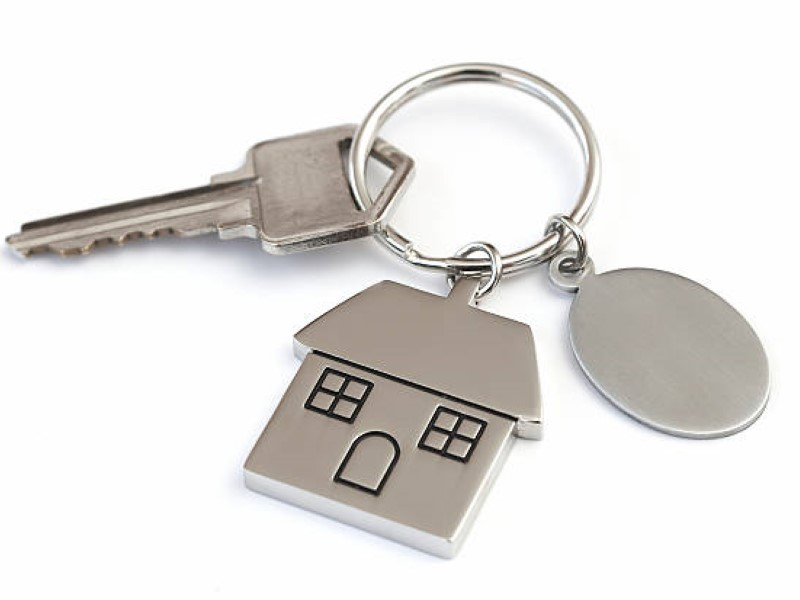key: (2, 121, 416, 261)
